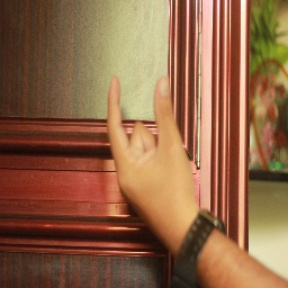U: (98, 67, 202, 201)
